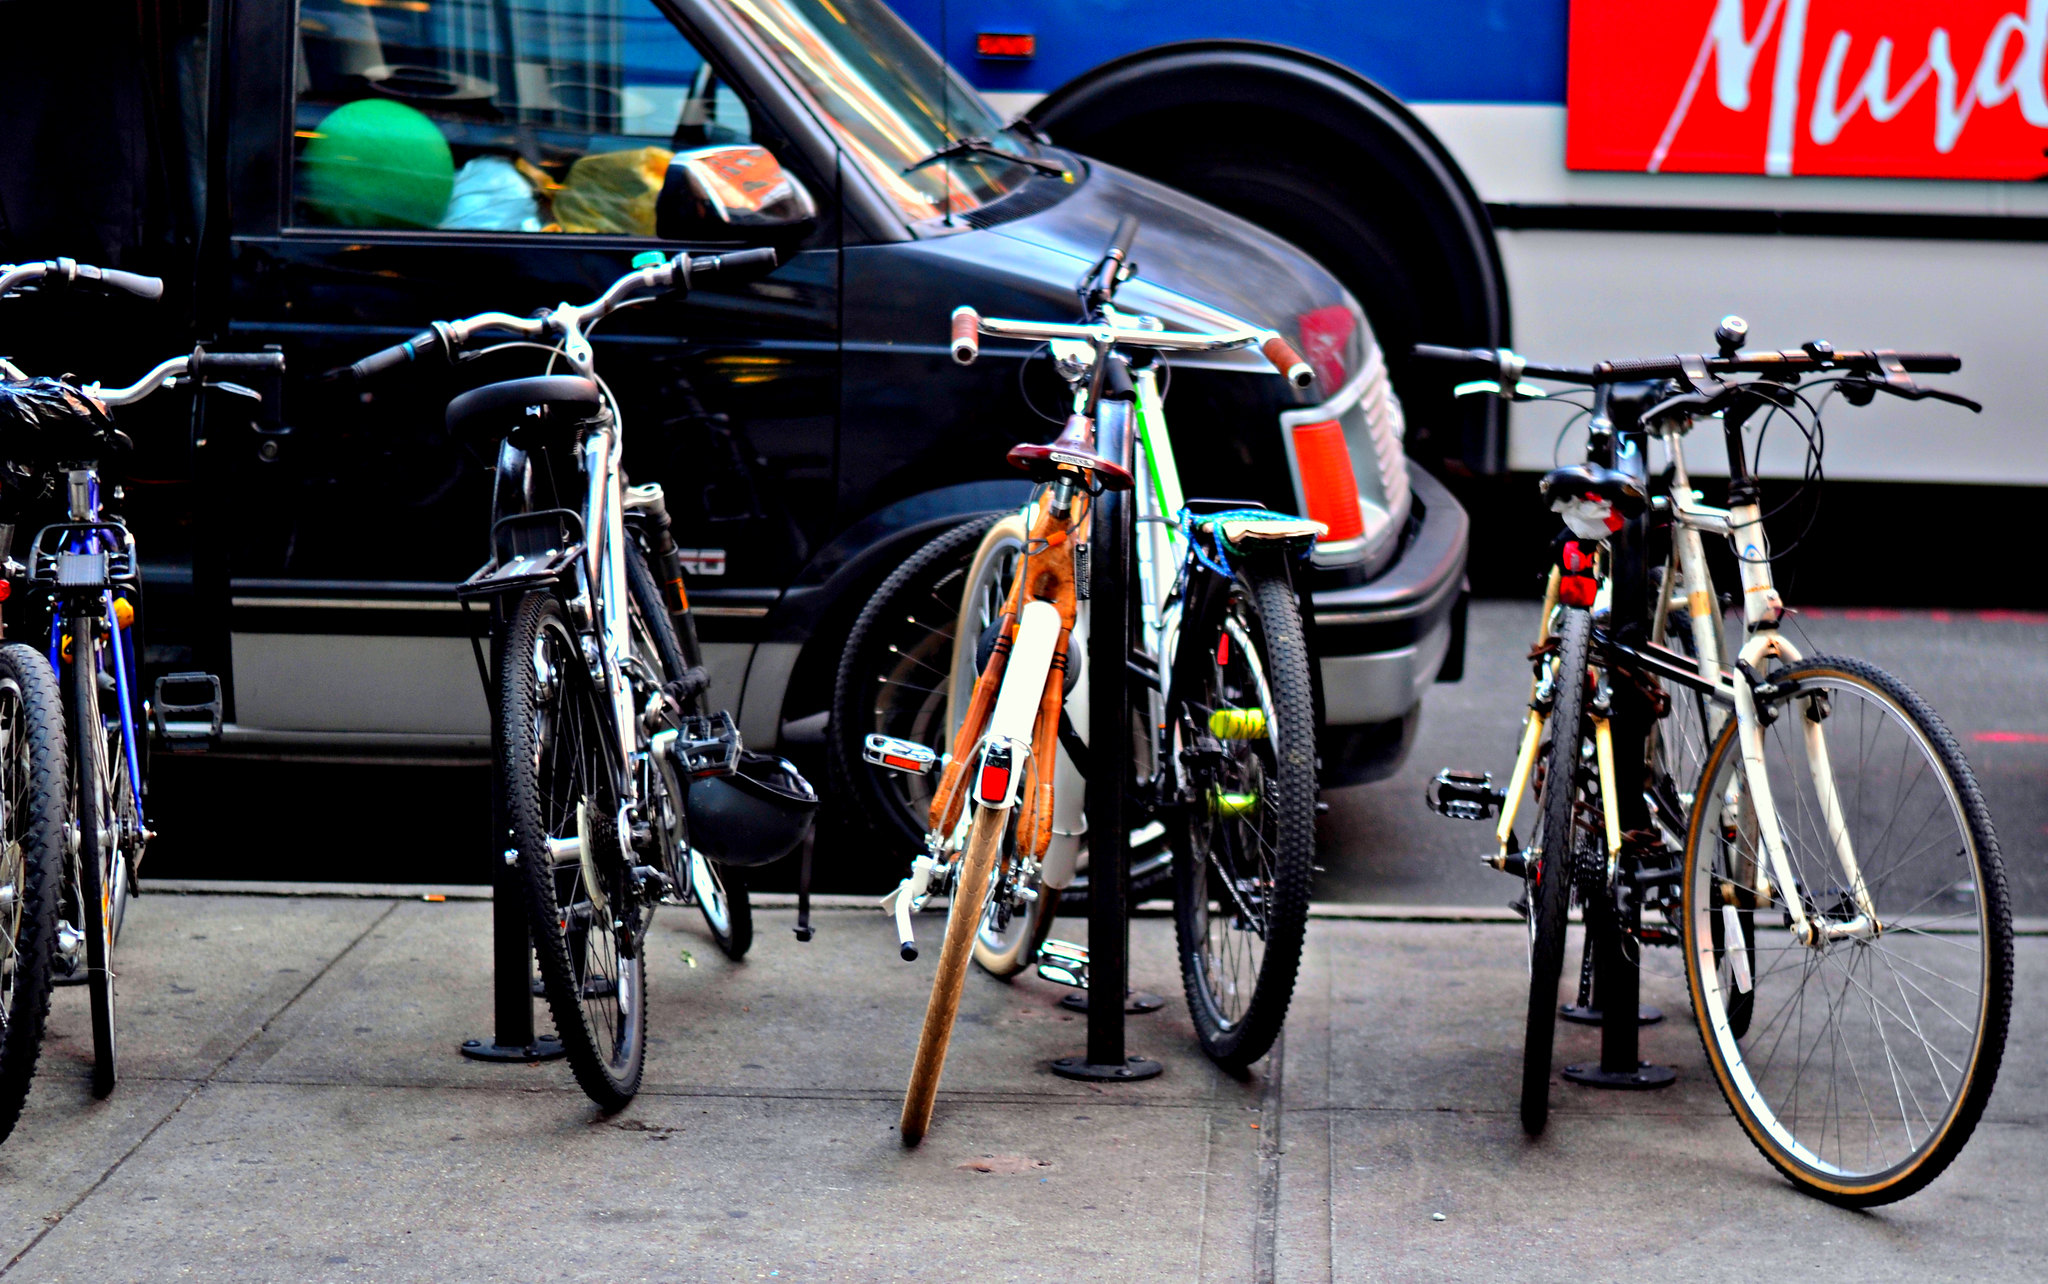bicycle: (342, 246, 833, 1155), (1637, 325, 2032, 1237), (1056, 234, 1391, 1078), (1393, 334, 1703, 1146), (889, 281, 1079, 1163)
